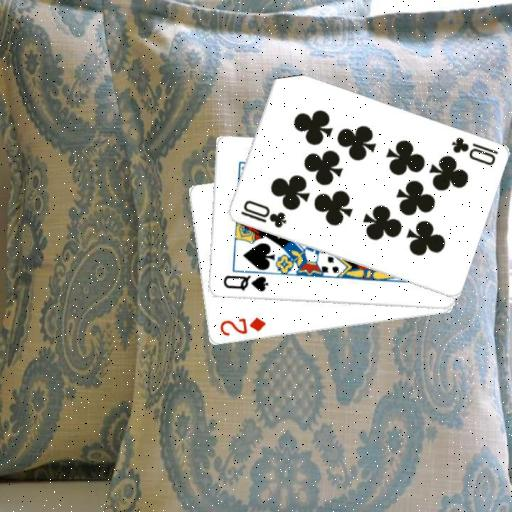10C: (448, 134, 499, 168), (237, 198, 288, 230)
2D: (217, 314, 267, 338)
QS: (220, 272, 270, 294)
